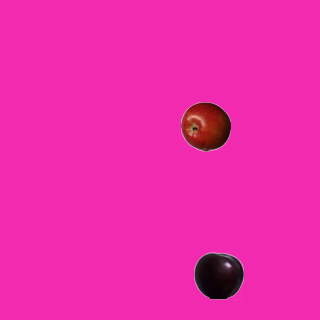Apple Braeburn: (180, 101, 230, 151)
Cherry Wax Black: (193, 250, 243, 300)
